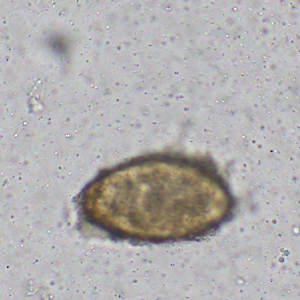Fasciola_hepatica_egg: (76, 153, 237, 244)
